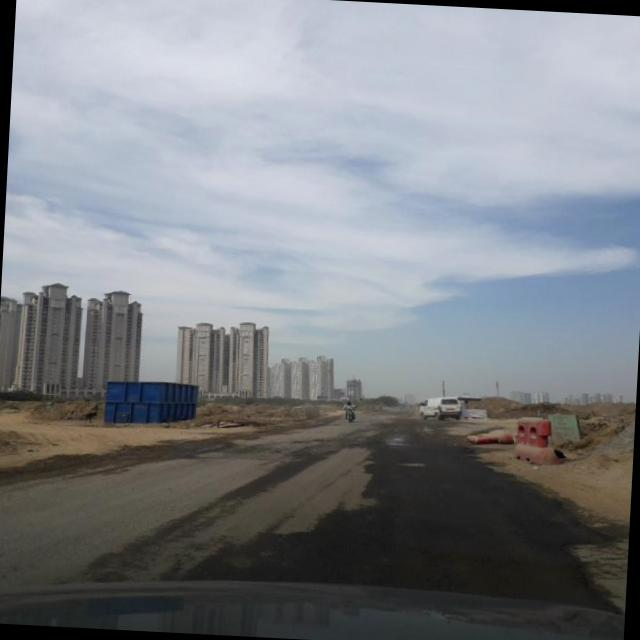crack: (564, 528, 622, 604)
